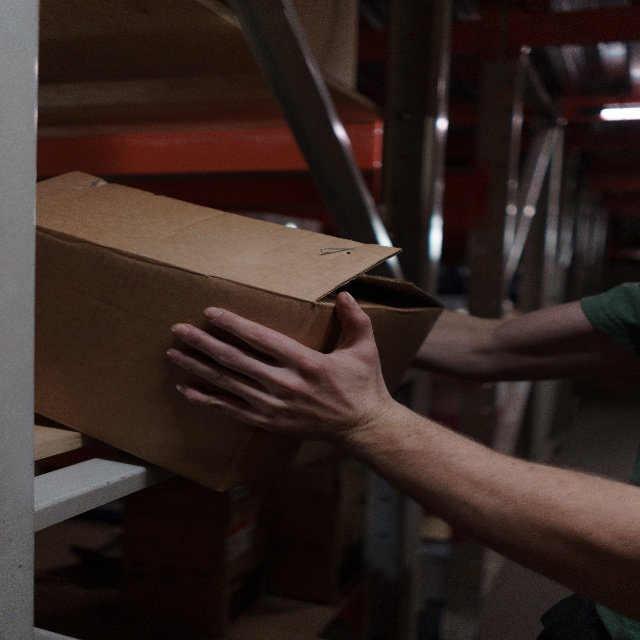Sin_guantes: (166, 290, 390, 443)
